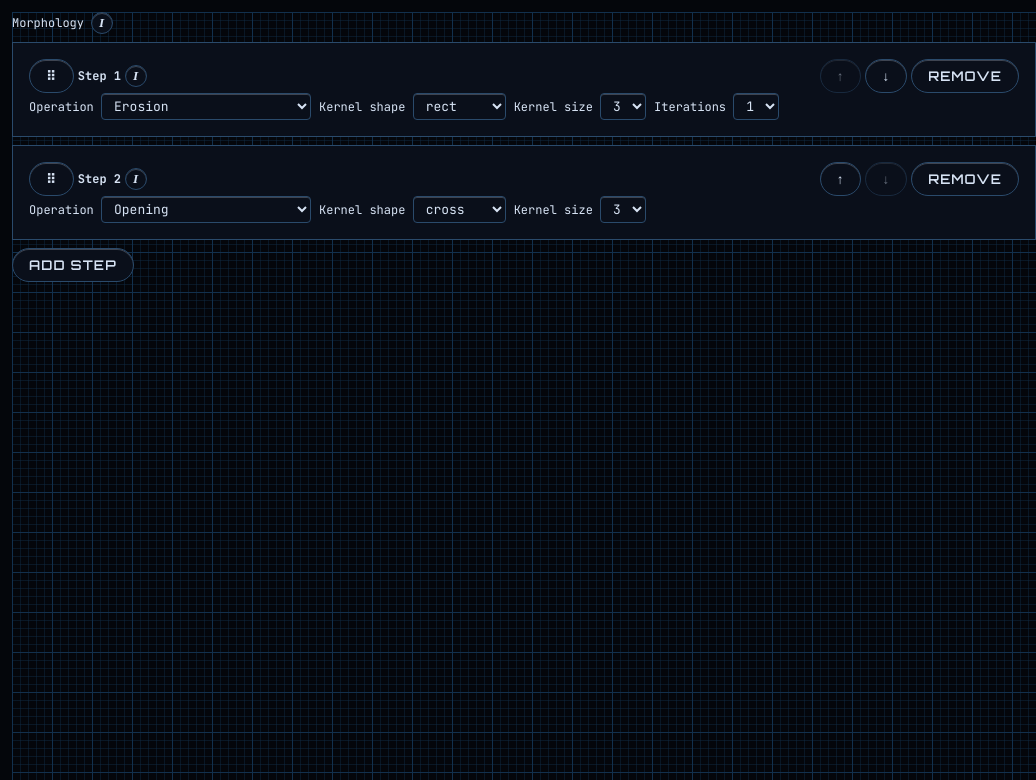
Test: MorphologyControl stack › edits one step without touching the others; iterations only for erosion and dilation
The image size is (1036, 780).
Later steps or results of the test are not shown.
Select "7" in the dropdown named "Step 2 kernel size" at (623, 210), box [600,196,646,223]
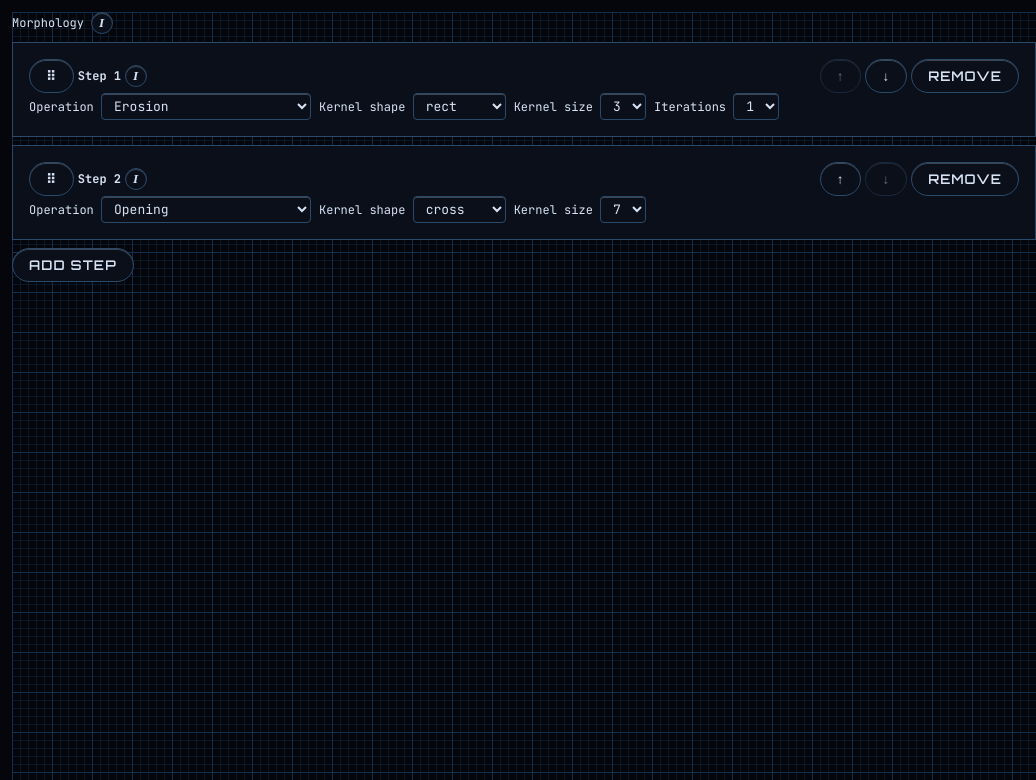
Select "3" in the dropdown named "Step 1 iterations" at (756, 106), box [733,93,779,120]
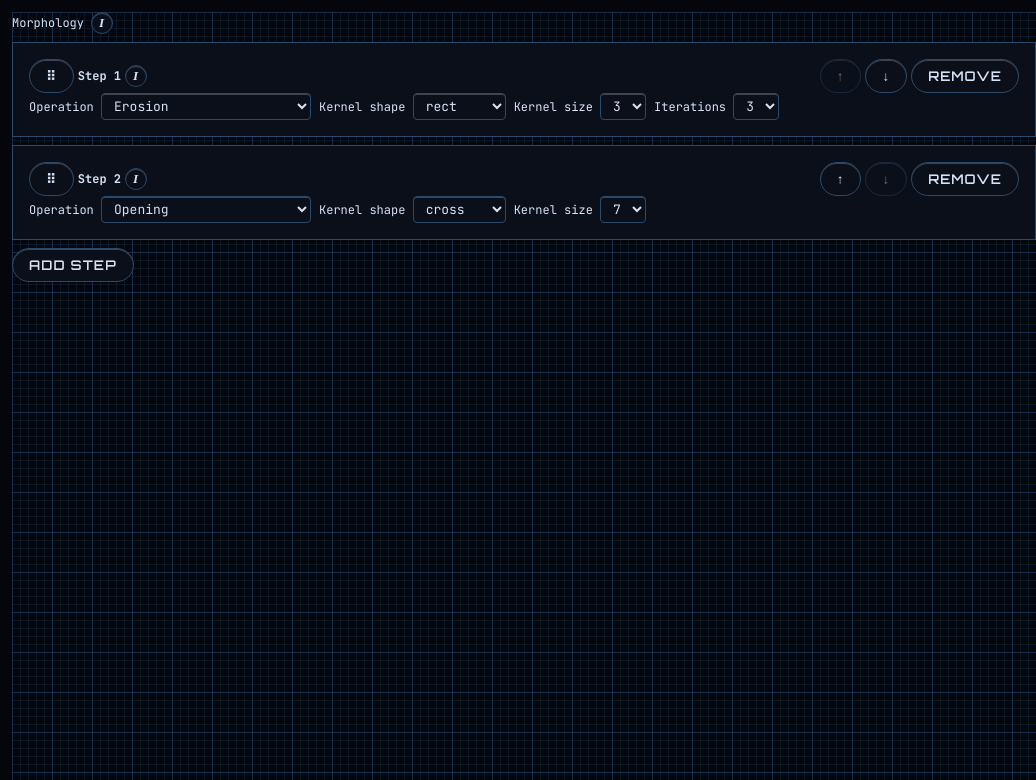
Select "Erosion" in the dropdown named "Step 2 operation" at (206, 210), box [101,196,311,223]
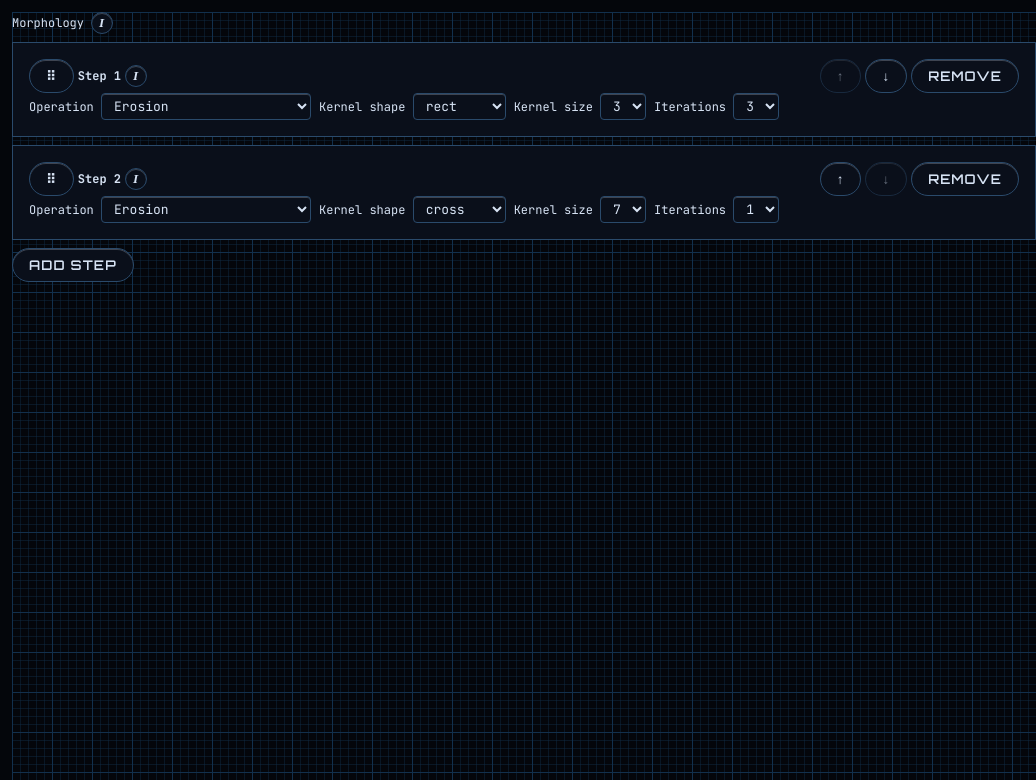
Expected: the dropdown named "Step 2 iterations" is shown, [733,196,779,223]
